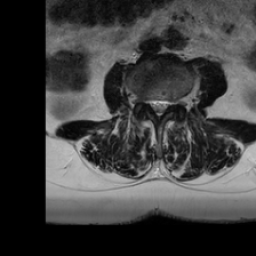CCS_normal: (155, 93, 160, 123)
LFS_severe_stenosis: (170, 92, 177, 112)
LLS_normal: (160, 94, 169, 118)
RFS_severe_stenosis: (140, 91, 147, 110)
RLS_normal: (147, 93, 155, 117)
